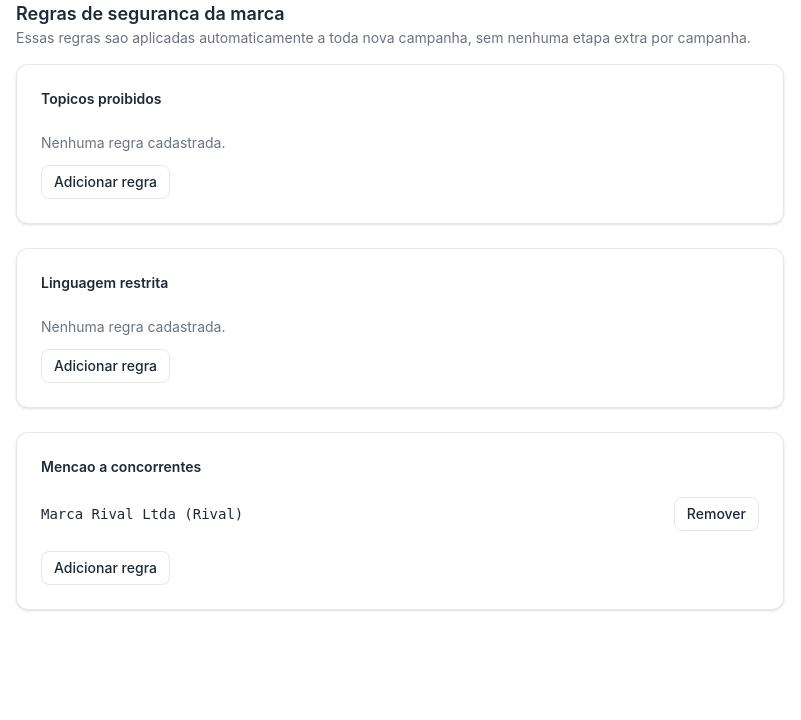
SafetyRulesetPage - US-15 › rejects a malformed rule with a stated reason and leaves the existing valid ruleset in effect
Expected: the text "Marca Rival Ltda (Rival)" is shown, [41, 504, 243, 524]
// The second card is restricted_language, per RULE_TYPES order.
Click the button "Adicionar regra" below "Linguagem restrita" at (105, 366), box [41, 349, 170, 383]
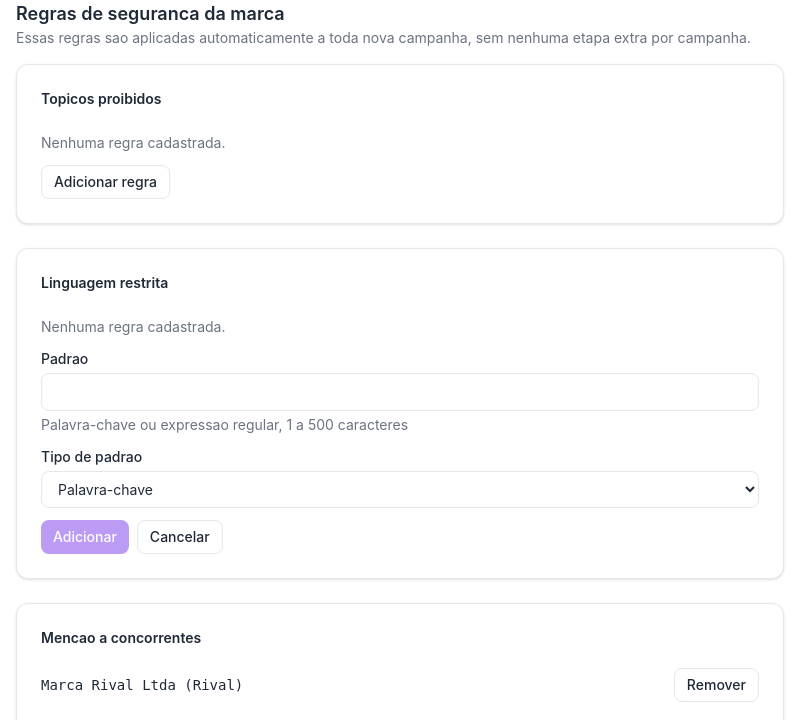
Type "(((invalid" into the field labelled "Padrao" at (400, 392), box [41, 373, 759, 411]
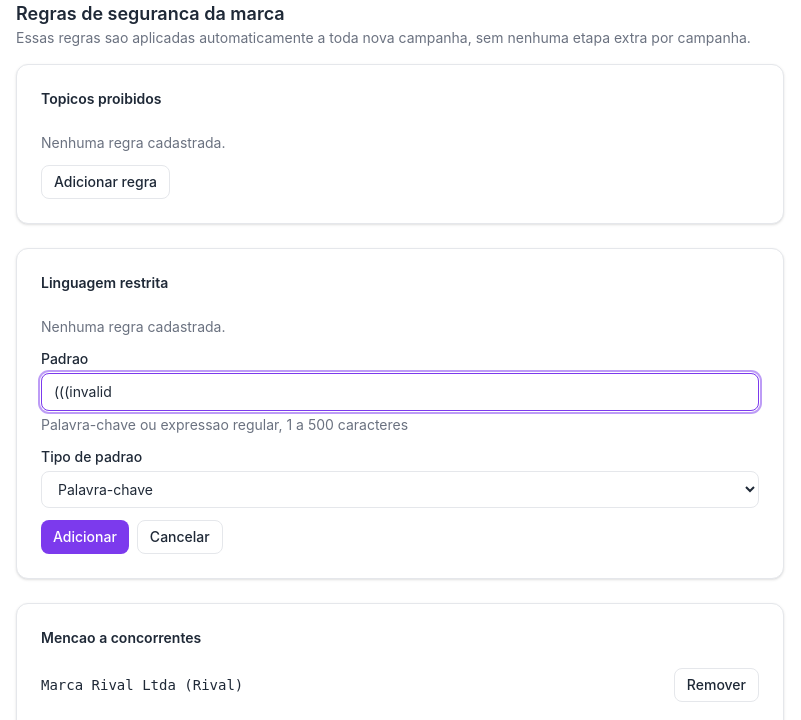
Click the button "Adicionar" at (85, 537), box [41, 520, 129, 554]
(page scrolled)
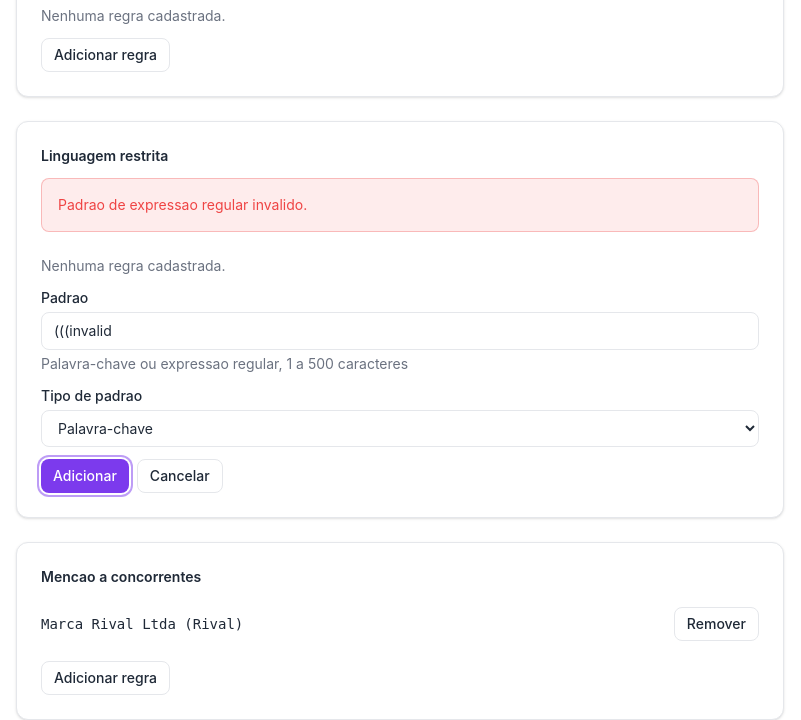
Expected: the text "Marca Rival Ltda (Rival)" is shown, [41, 614, 243, 634]
Expected: the text "Padrao de expressao regular invalido." is shown, [41, 178, 759, 232]
